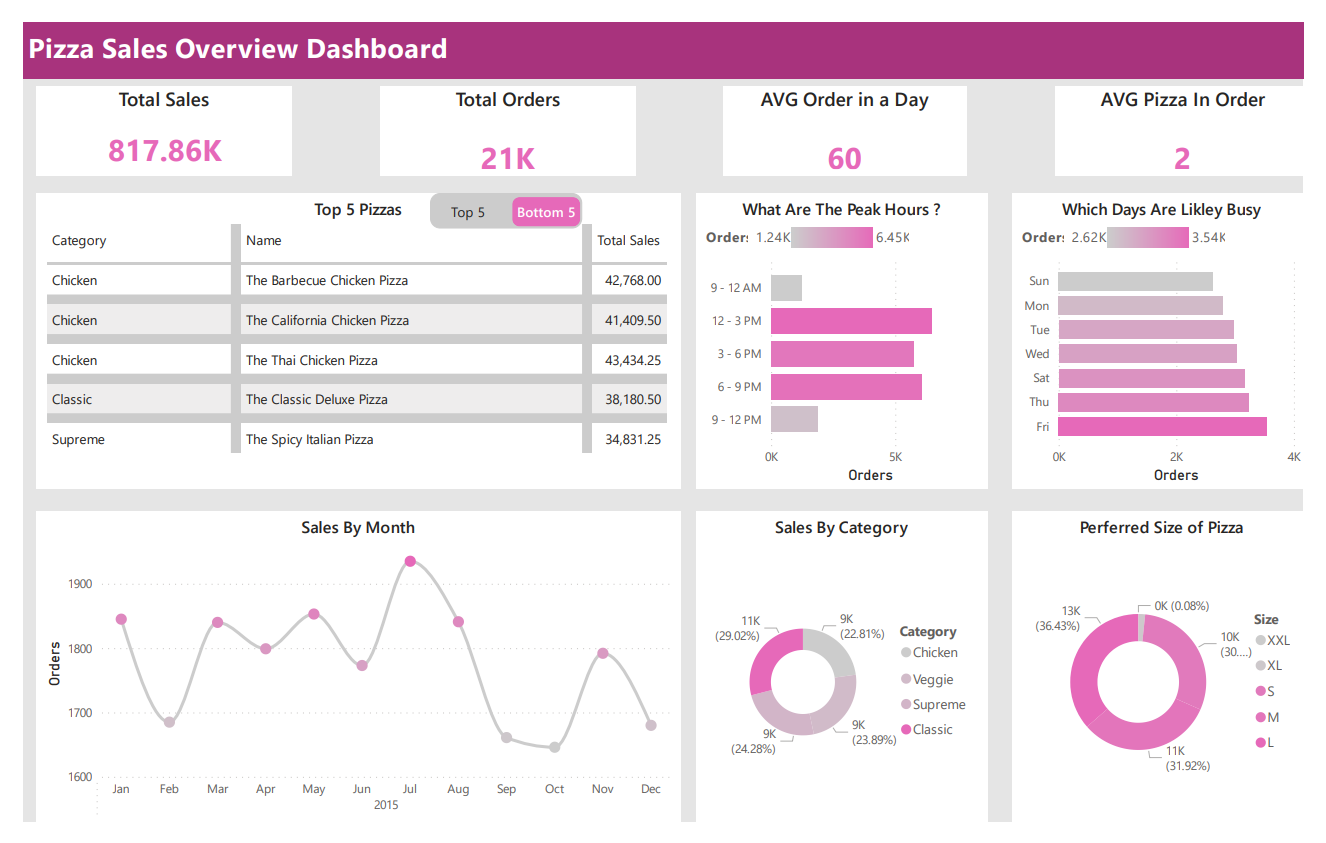

What the dashboard file says about the page in this screenshot:
{"tool":"powerbi","page":{"name":"Page 1","canvas":[1280,800],"ordinal":0},"visuals":[{"type":"textbox","box":[0,0,1279.8,56.2],"z":0},{"type":"barChart","title":"What Are The Peak Hours ?","fields":{"Category":["Orders.TimeSlot"],"Y":["AllMeasures.Orders"]},"box":[663.2,168.6,286.7,290.7],"z":1000},{"type":"barChart","title":"Which Days Are Likley Busy","fields":{"Category":["Date Table.Day"],"Y":["AllMeasures.Orders"]},"box":[974.1,168.6,294.8,290.7],"z":2000},{"type":"lineChart","title":"Sales By Month","fields":{"Category":["Date Table.Year","Date Table.Month"],"Y":["AllMeasures.Orders"]},"box":[13.1,481.5,635,310.9],"z":3000},{"type":"donutChart","title":"Sales By Category","fields":{"Y":["AllMeasures.Orders"],"Category":["PizzaTypes.Category"]},"box":[663.2,481.5,286.7,310.9],"z":4000},{"type":"donutChart","title":"Perferred Size of Pizza","fields":{"Y":["AllMeasures.Orders"],"Category":["Pizzas.Size"]},"box":[974.1,481.5,294.8,310.9],"z":5000},{"type":"tableEx","title":"Top 5 Pizzas","fields":{"Values":["PizzaTypes.Category","PizzaTypes.Name","AllMeasures.Total Sales"]},"box":[13.1,168.6,635,290.7],"z":6000},{"type":"bookmarkNavigator","box":[400.8,168.6,150.4,35.3],"z":8000},{"type":"cardVisual","title":"Total Sales","fields":{"Data":["AllMeasures.Total Sales"]},"box":[13.1,62.6,252.4,87.8],"z":9000},{"type":"cardVisual","title":"Total Orders","fields":{"Data":["AllMeasures.Orders"]},"box":[351.6,62.6,252.4,87.8],"z":10000},{"type":"cardVisual","title":"AVG Order in a Day","fields":{"Data":["AllMeasures.AVG Order in a Day"]},"box":[690.1,62.6,240.3,87.8],"z":11000},{"type":"cardVisual","title":"AVG Pizza In Order","fields":{"Data":["AllMeasures.AVG Pizzas in a order"]},"box":[1016.5,62.6,252.4,87.8],"z":12000}]}

Visuals, with their boxes in screenshot pixels (x1, y1, x2, y2), scaled from the page's 1280x800 canvas onto the 1326x843 screenshot:
textbox: <box>0,0,1325,59</box>
"What Are The Peak Hours ?" barChart: <box>687,178,984,484</box>
"Which Days Are Likley Busy" barChart: <box>1009,178,1315,484</box>
"Sales By Month" lineChart: <box>14,507,671,835</box>
"Sales By Category" donutChart: <box>687,507,984,835</box>
"Perferred Size of Pizza" donutChart: <box>1009,507,1315,835</box>
"Top 5 Pizzas" tableEx: <box>14,178,671,484</box>
bookmarkNavigator: <box>415,178,571,215</box>
"Total Sales" cardVisual: <box>14,66,275,158</box>
"Total Orders" cardVisual: <box>364,66,626,158</box>
"AVG Order in a Day" cardVisual: <box>715,66,964,158</box>
"AVG Pizza In Order" cardVisual: <box>1053,66,1315,158</box>
